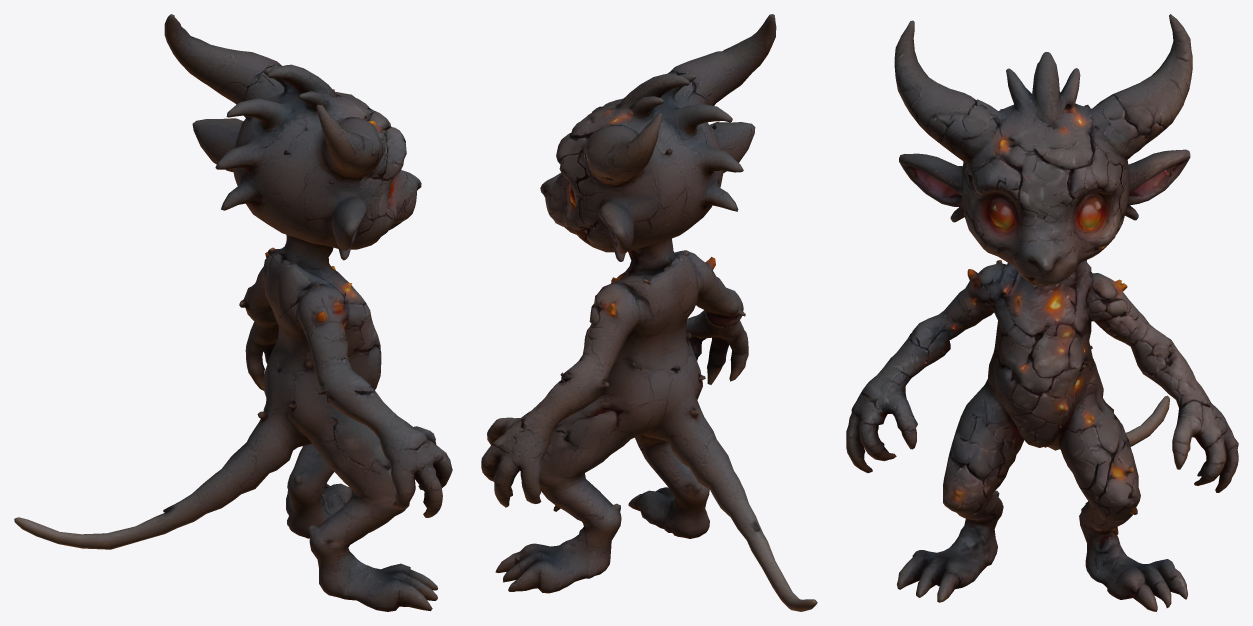
3 renders of one model, left to right at view 1: azimuth 30°, elevation 25°; view 2: azimuth 150°, elevation 25°; view 3: azimuth 270°, elevation 25°, orthographic. The views are drawn at different scales.
Parts seen in each view (by area): view 1: tripo_node_43384978-03c1-40c8-82f5-e51b06712c06; view 2: tripo_node_43384978-03c1-40c8-82f5-e51b06712c06; view 3: tripo_node_43384978-03c1-40c8-82f5-e51b06712c06.
Boxes of the visible parts, <box> form: tripo_node_43384978-03c1-40c8-82f5-e51b06712c06: <box>14,14,452,611</box>; tripo_node_43384978-03c1-40c8-82f5-e51b06712c06: <box>481,14,817,611</box>; tripo_node_43384978-03c1-40c8-82f5-e51b06712c06: <box>846,14,1238,611</box>.
Size of the model in its own units: 0.683 by 1 by 0.683.
Materials: 1 (1 with a texture image).
